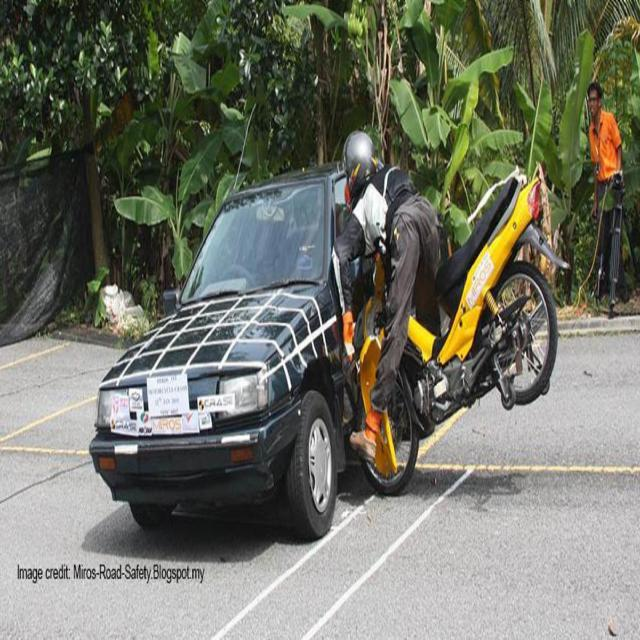high-motorcycle-accident: (349, 142, 556, 501)
low-cars-accident: (85, 92, 355, 534)
